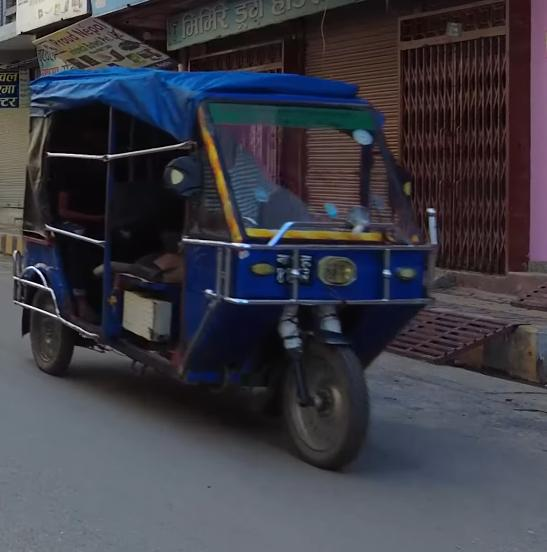e-rickshaw: (28, 65, 426, 470)
